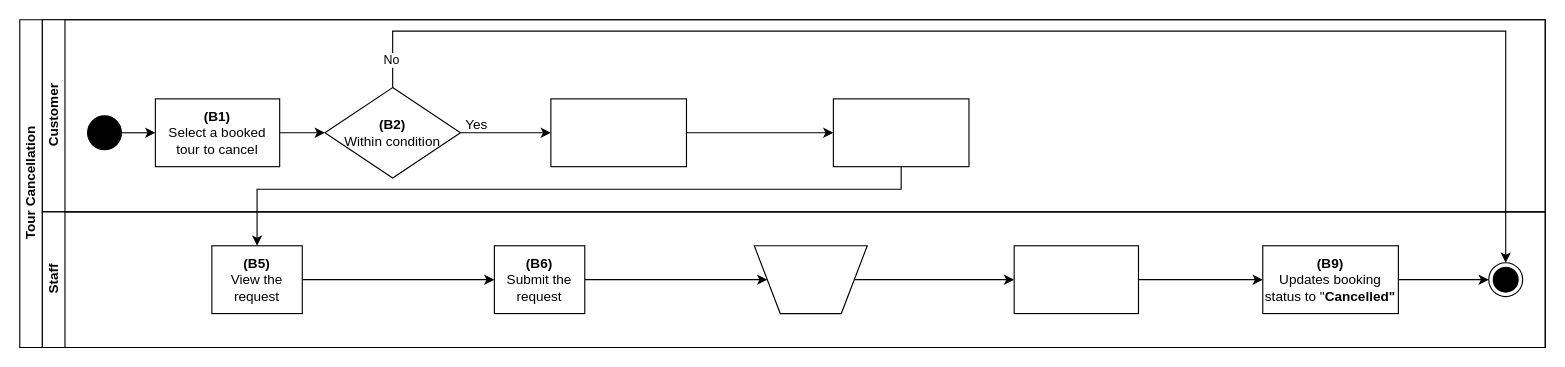
The diagram is 1565 pixels wide and 367 high, and some of its shapes have lost their labels. The centre of each missing label's shape, as x and y in pixels:
(B3) Enter the cancellation reason: [618,132]
(B4) Submit a cancellation request: [900,132]
(B7) Process refund: [810,279]
(B8) Update Payment status to "Refunded": [1075,279]
